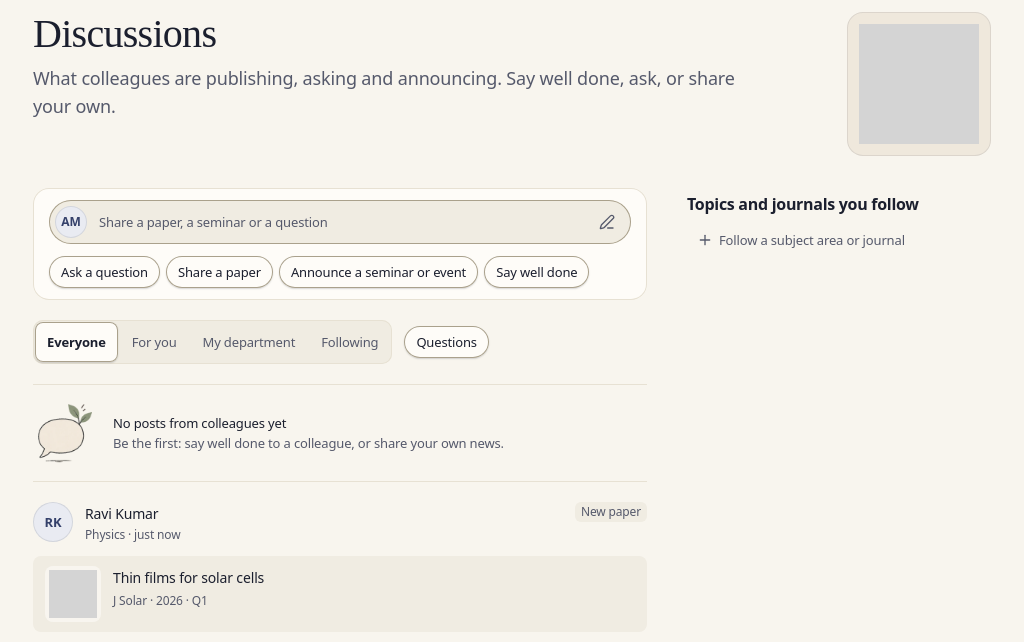
it: Discussions, reworked › offers four kinds of post and changes the box for each
Expected: the button "Ask a question" is shown, [49, 256, 160, 288]
Expected: the button "Share a paper" is shown, [166, 256, 273, 288]
Click the button "Say well done" at [537, 272], box [484, 256, 590, 288]
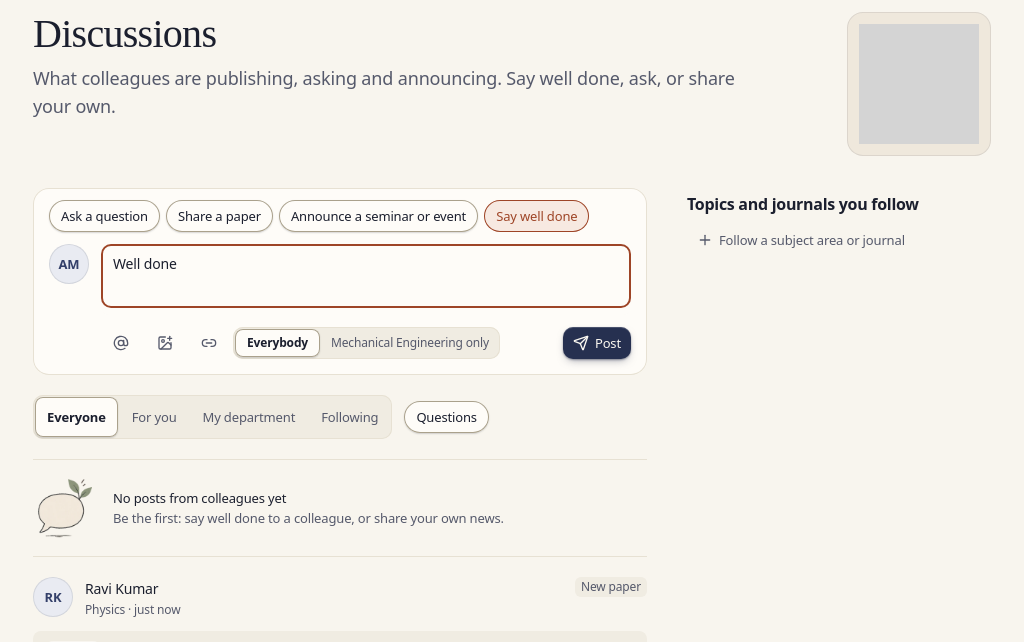
Now the dropdown labelled "Write a post" holds "Well done ", box [101, 244, 631, 308]
Click the button "Announce a seminar or event" at [379, 216], box [279, 200, 478, 232]
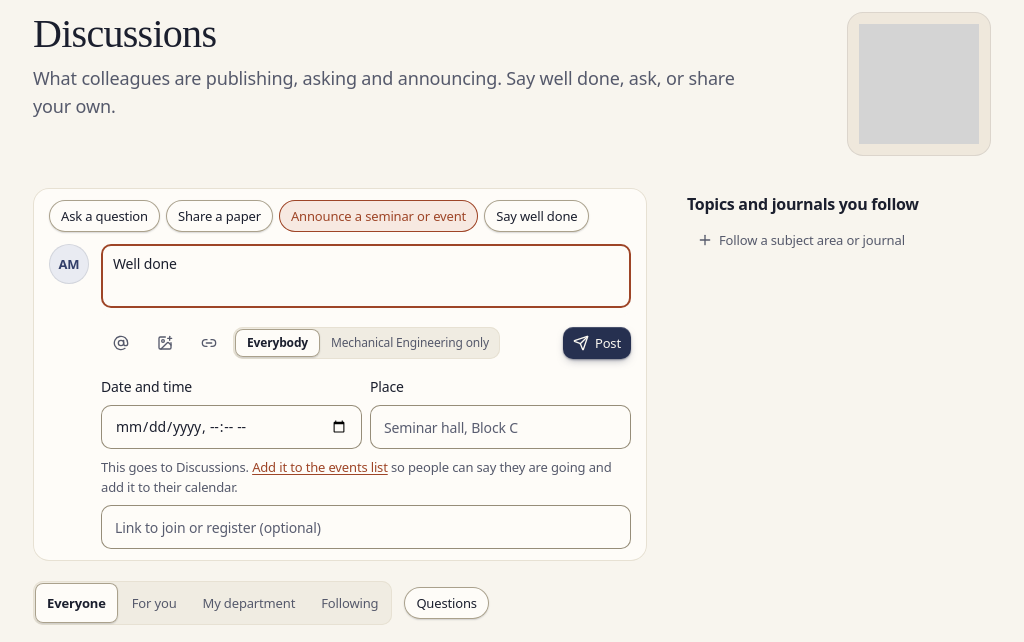
Now the field labelled "Date and time" is shown, box [101, 405, 362, 449]
Now the field labelled "Place" is shown, box [370, 405, 631, 449]
